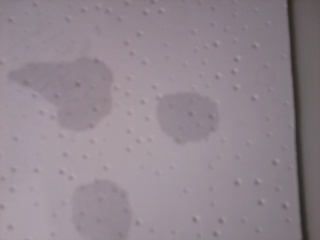Water_detected: (32, 53, 105, 123), (76, 183, 127, 233), (159, 97, 208, 136)
